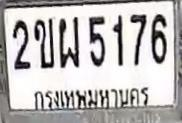1: (112, 15, 124, 66)
2: (12, 19, 30, 69)
5: (88, 15, 105, 67)
6: (150, 13, 167, 64)
7: (129, 13, 146, 66)
A02: (33, 17, 54, 68)
A28: (58, 15, 80, 68)
BKK: (29, 84, 153, 113)
